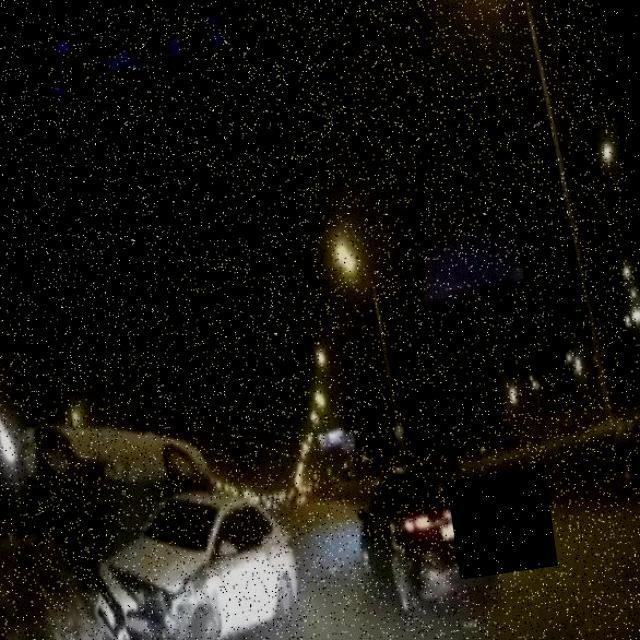accident: (2, 387, 312, 640)
